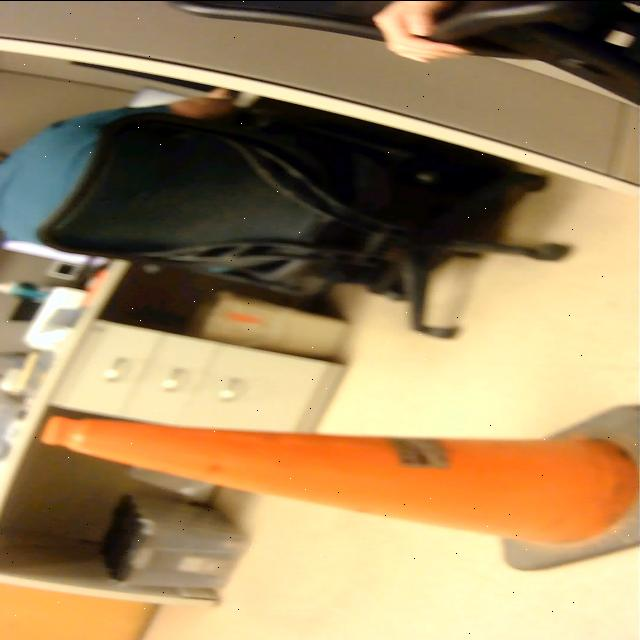traffic cone: (33, 398, 640, 575)
